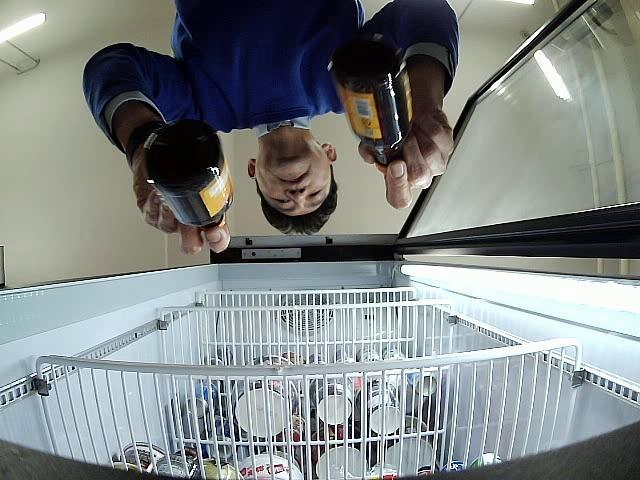17_vita500: (329, 39, 416, 176), (142, 124, 232, 227)
